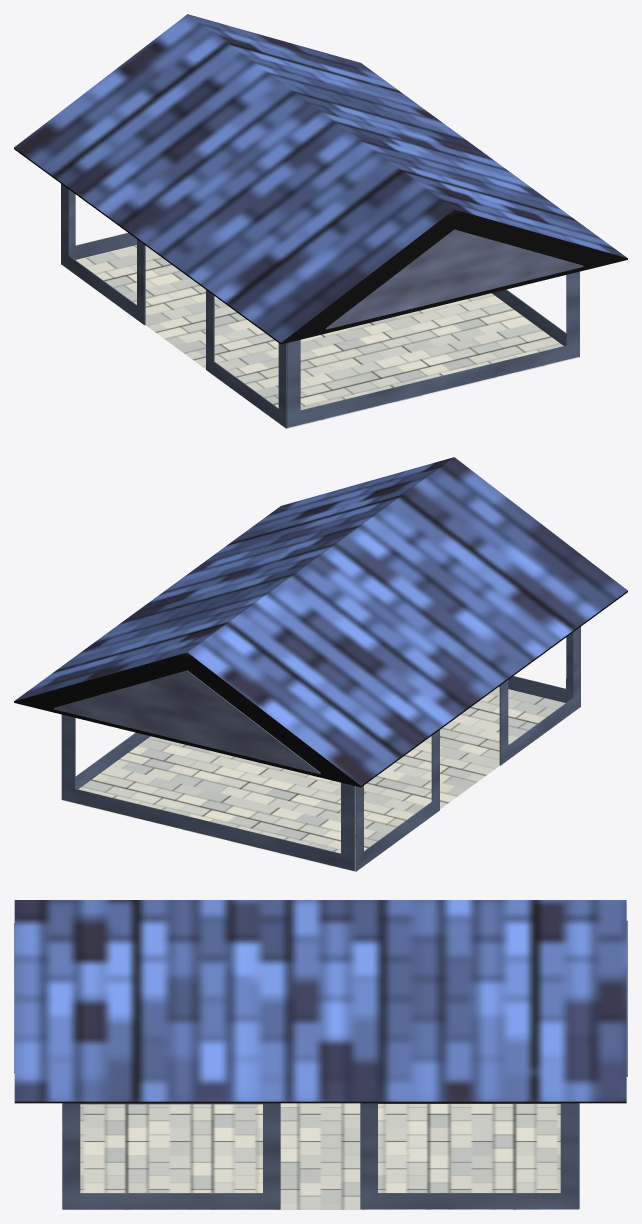
Rendered from house.dae.
3 views of the same model, one above another, from view 1: azimuth 30°, elevation 25°; view 2: azimuth 150°, elevation 25°; view 3: azimuth 270°, elevation 25° (orthographic). The views are drawn at different scales.
Visible parts, largest first — view 1: Plane; view 2: Plane; view 3: Plane.
Part boxes in pixels (box(x1,y1,x2,y2)): Plane: box(14, 14, 627, 428); Plane: box(14, 457, 627, 871); Plane: box(14, 900, 627, 1209).
Bounding box in the file's own units: 3.55 × 4.75 × 1.94.
Materials: 1 (1 with a texture image).
